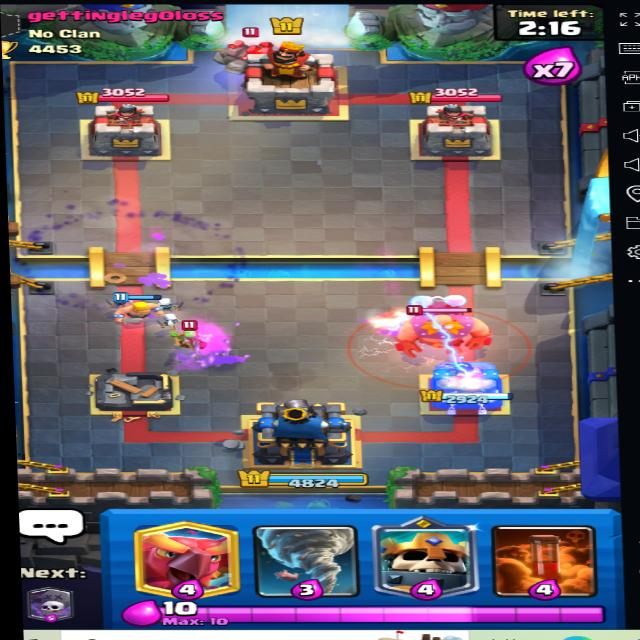electro-giant: (383, 290, 499, 354)
golem: (205, 21, 309, 80)
spear-goblin: (166, 316, 207, 356)
